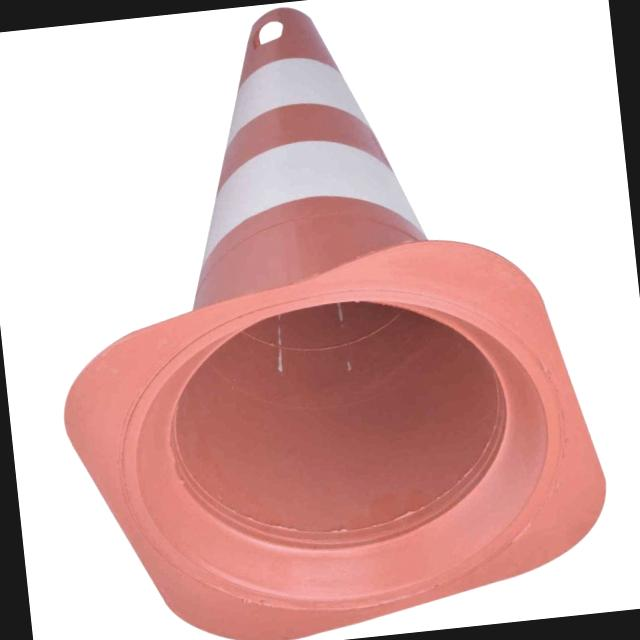cone: (23, 0, 633, 640)
